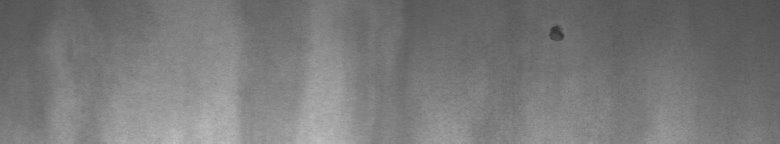fi: (544, 20, 568, 48)
